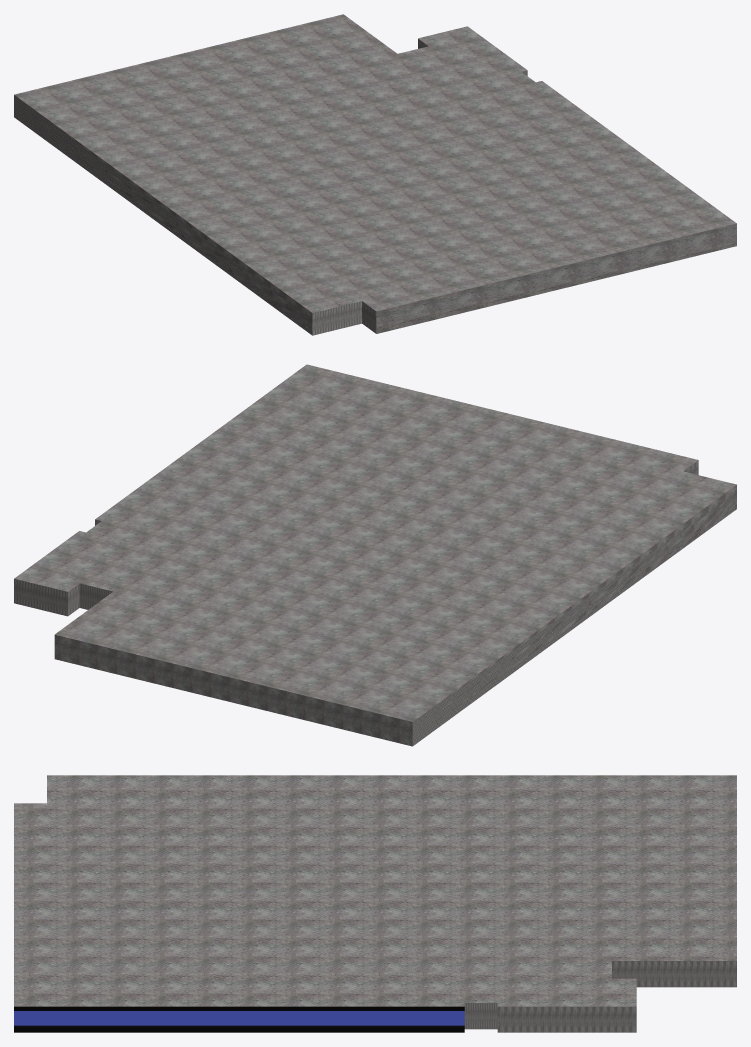
The model's file is Suelo_Alta.fbx.
3 views of the same model, one above another, from view 1: azimuth 30°, elevation 25°; view 2: azimuth 150°, elevation 25°; view 3: azimuth 270°, elevation 25° (orthographic). The views are drawn at different scales.
Visible parts, largest first — view 1: Suelo_Planta_2.001; view 2: Suelo_Planta_2.001; view 3: Suelo_Planta_2.001.
Part boxes in pixels (x1=…): Suelo_Planta_2.001: x1=14, y1=14, x2=736, y2=335; Suelo_Planta_2.001: x1=14, y1=364, x2=736, y2=746; Suelo_Planta_2.001: x1=14, y1=775, x2=736, y2=1032.
Bounding box in the file's own units: 10114 × 533 × 13358.
